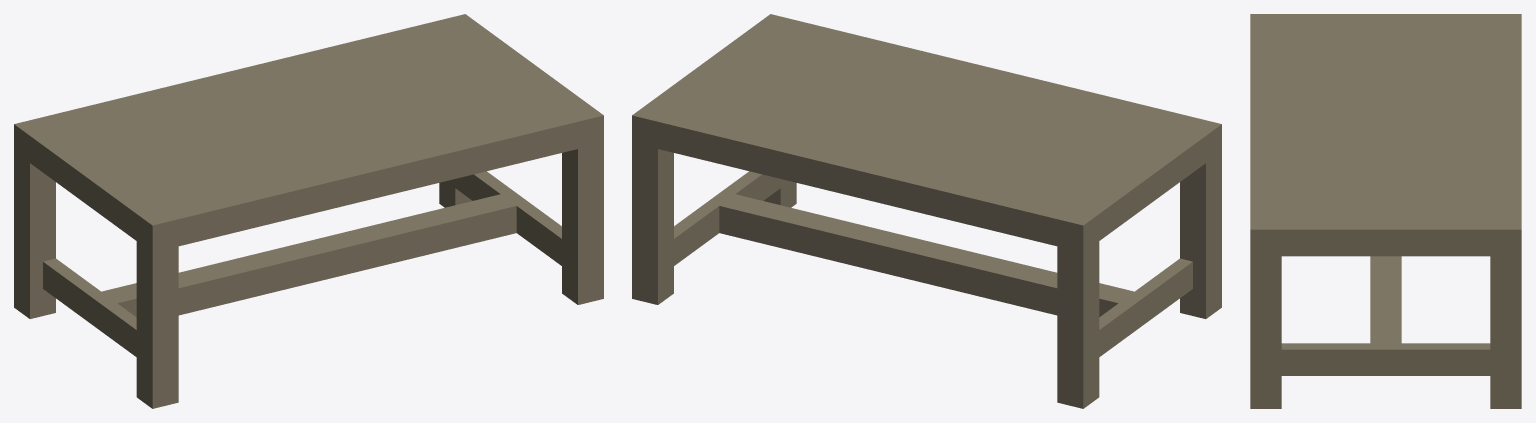
Rendered from table.glb.
3 renders of one model, left to right at view 1: azimuth 30°, elevation 25°; view 2: azimuth 150°, elevation 25°; view 3: azimuth 270°, elevation 25°, orthographic. The views are drawn at different scales.
Visible parts, largest first — view 1: table; view 2: table; view 3: table.
Boxes of the visible parts, box(x1,y1,x2,y2) form: table: box(14, 14, 603, 408); table: box(632, 14, 1221, 408); table: box(1250, 14, 1521, 408).
Size of the model in its own units: 0.8415 by 0.3267 by 0.4474.
